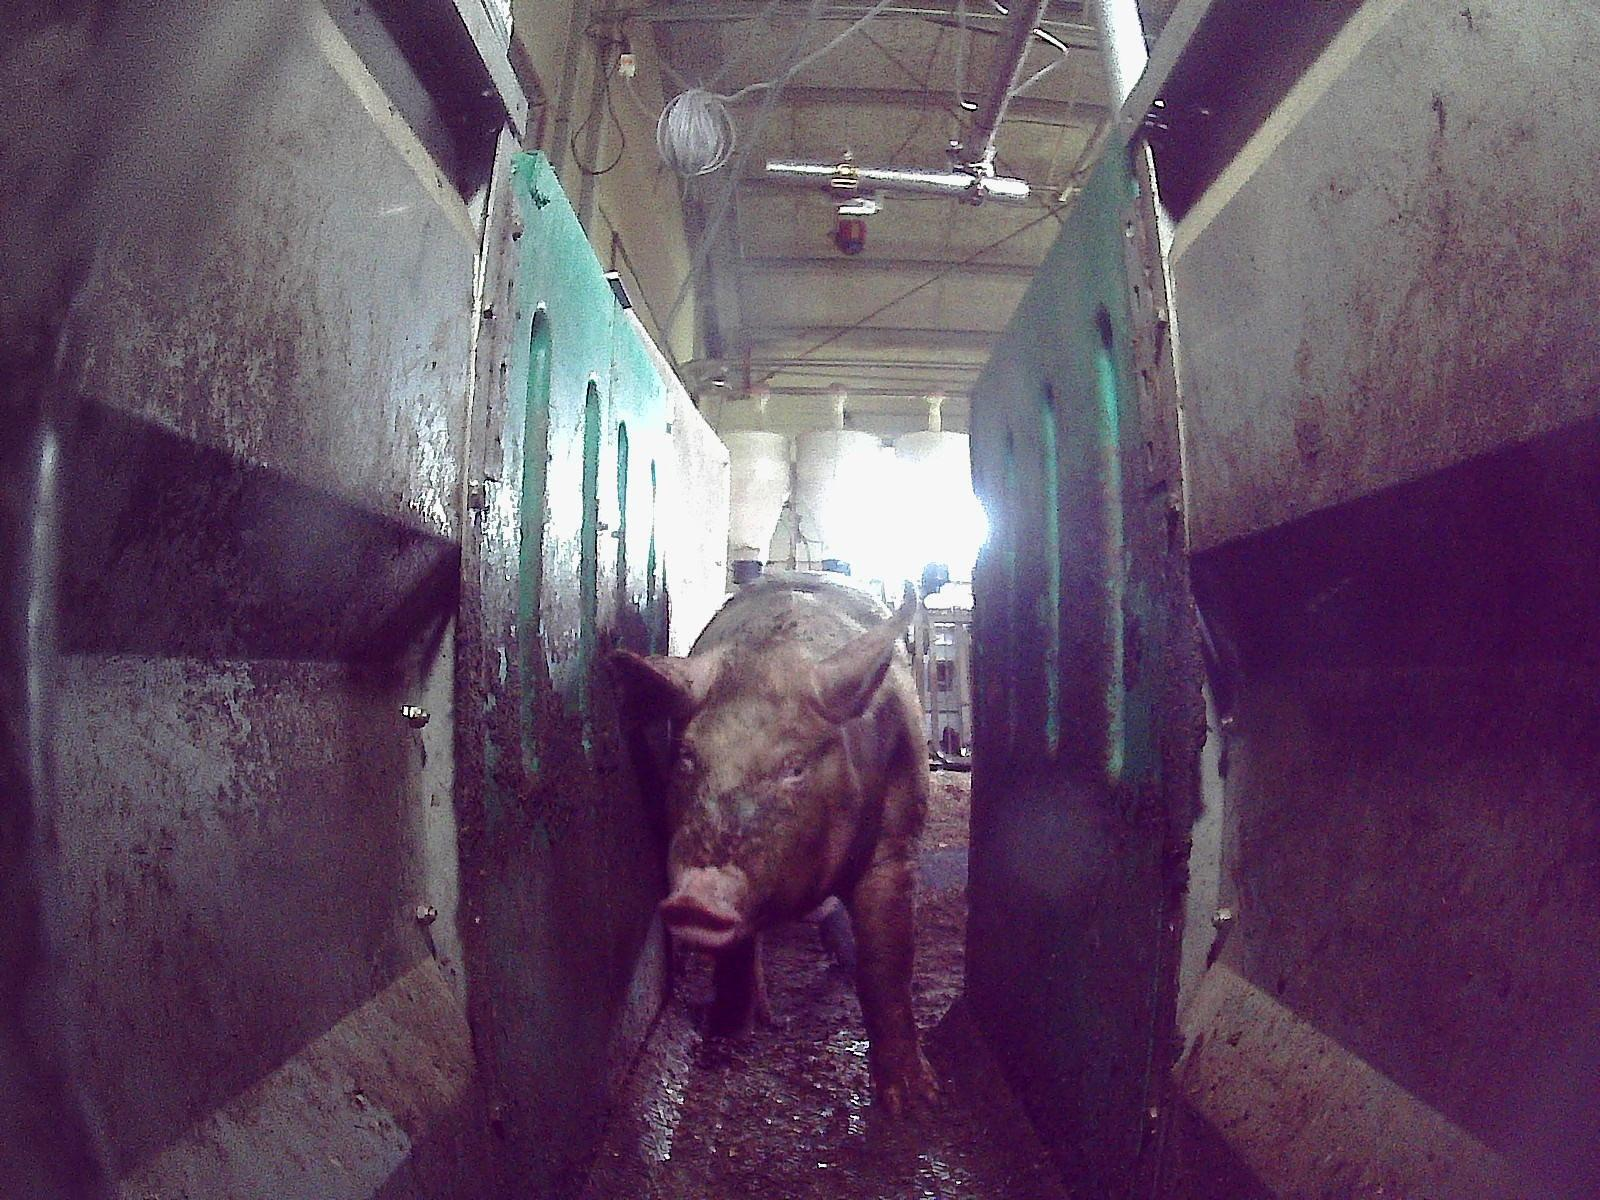Face: (658, 644, 862, 945)
